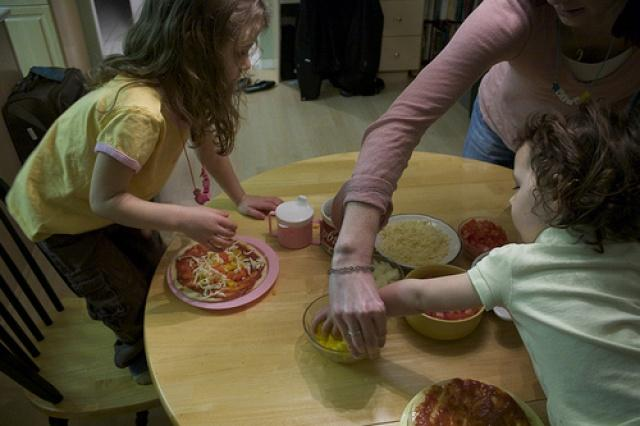Kursi: (0, 176, 159, 425)
